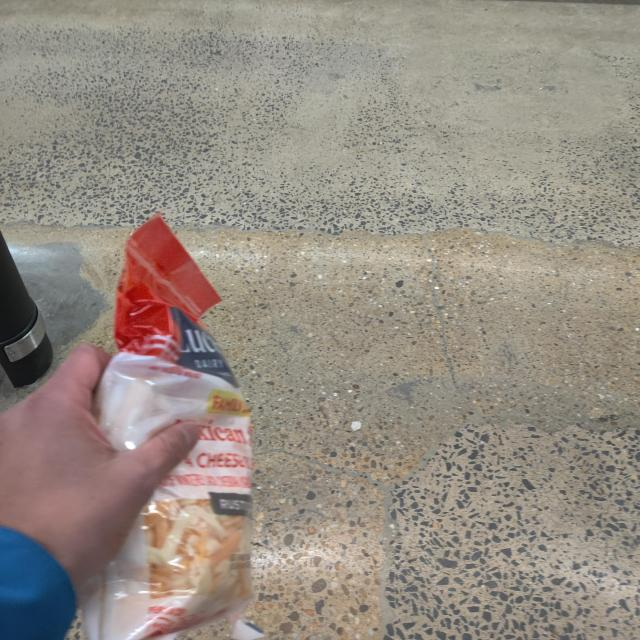Cheese: (75, 207, 278, 640)
